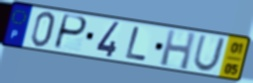0: (29, 11, 58, 49)
4: (95, 21, 120, 59)
H: (158, 28, 197, 72)
L: (124, 25, 149, 63)
P: (52, 13, 89, 52)
U: (191, 34, 227, 73)
